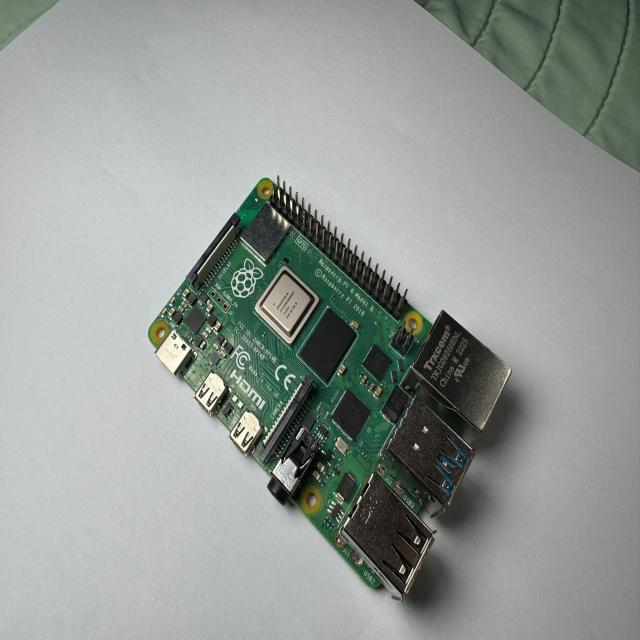CPU: (254, 265, 318, 349)
Ethernet: (414, 312, 508, 432)
RAM: (299, 308, 358, 387)
Raspberry: (147, 179, 510, 601)
micro-hdmi: (198, 372, 226, 416), (228, 410, 259, 446)
